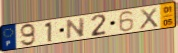1: (43, 21, 53, 44)
2: (90, 14, 108, 38)
6: (118, 10, 136, 33)
9: (19, 23, 37, 47)
N: (66, 16, 87, 40)
X: (139, 7, 160, 31)
